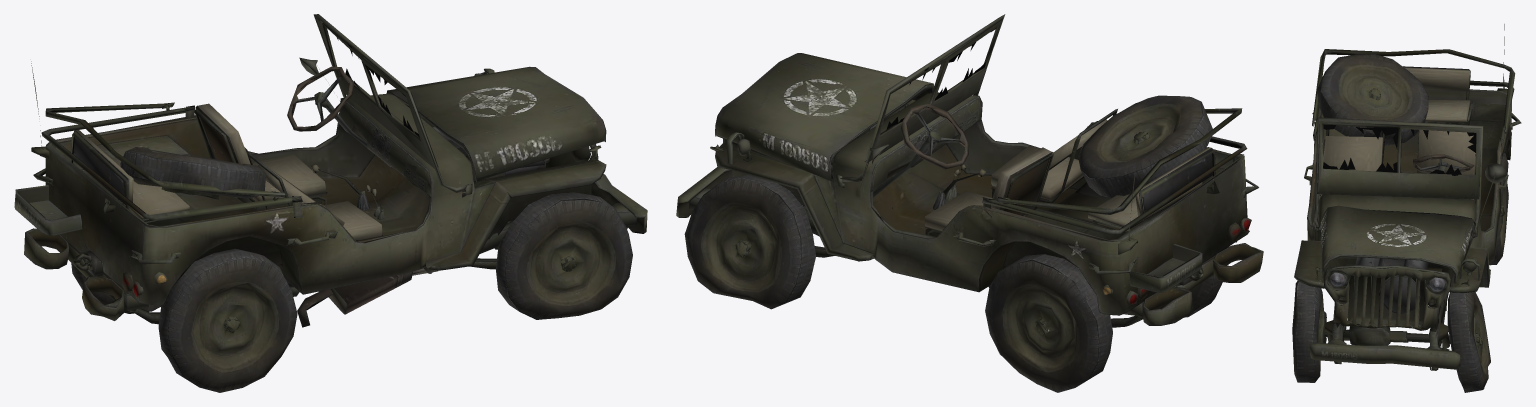
Rendered from wreck_jeep.glb.
3 renders of one model, left to right at view 1: azimuth 30°, elevation 25°; view 2: azimuth 150°, elevation 25°; view 3: azimuth 270°, elevation 25°, orthographic. The views are drawn at different scales.
Visible parts, largest first — view 1: Object_2; view 2: Object_2; view 3: Object_2.
Part boxes in pixels (box(x1,y1,x2,y2)): Object_2: box(14, 14, 647, 392); Object_2: box(676, 14, 1263, 392); Object_2: box(1292, 24, 1521, 392).
Size of the model in its own units: 3.4 by 1.62 by 1.61.
1 material, 1 textured.
